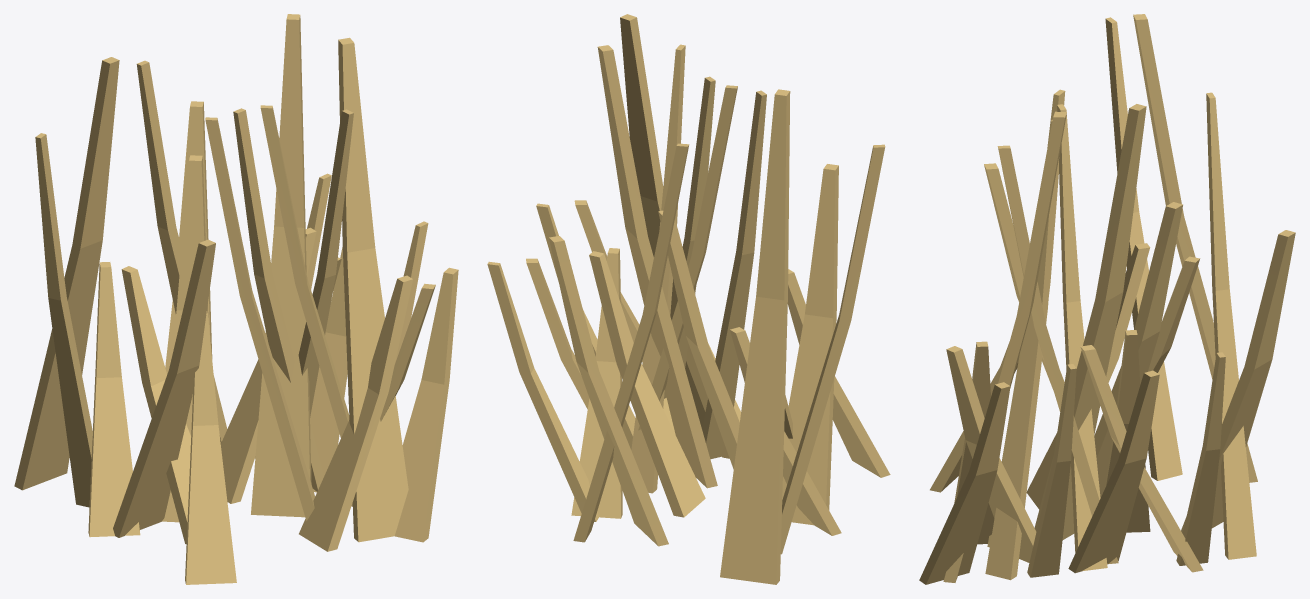
File: grass03.fbx
3 views of the same model, side by side, from view 1: azimuth 30°, elevation 25°; view 2: azimuth 150°, elevation 25°; view 3: azimuth 270°, elevation 25° (orthographic). The views are drawn at different scales.
Visible parts, largest first — view 1: Plane.053; view 2: Plane.053; view 3: Plane.053.
Boxes of the visible parts, box(x1,y1,x2,y2) form: Plane.053: box(14, 14, 458, 584); Plane.053: box(487, 14, 890, 584); Plane.053: box(919, 14, 1295, 584).
Size of the model in its own units: 0.1861 by 0.2157 by 0.1592.
